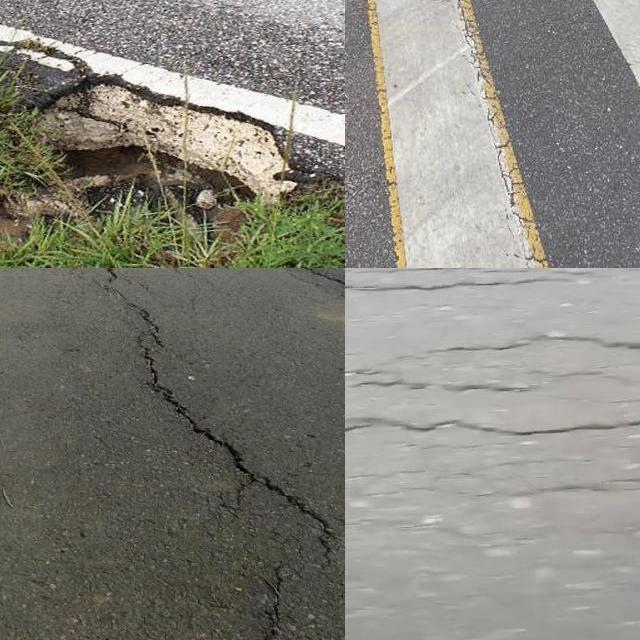Melintang: (345, 407, 640, 448), (345, 268, 640, 302), (427, 328, 640, 359)
Memanjang: (65, 268, 345, 640)
Pinggir: (0, 61, 325, 259)
